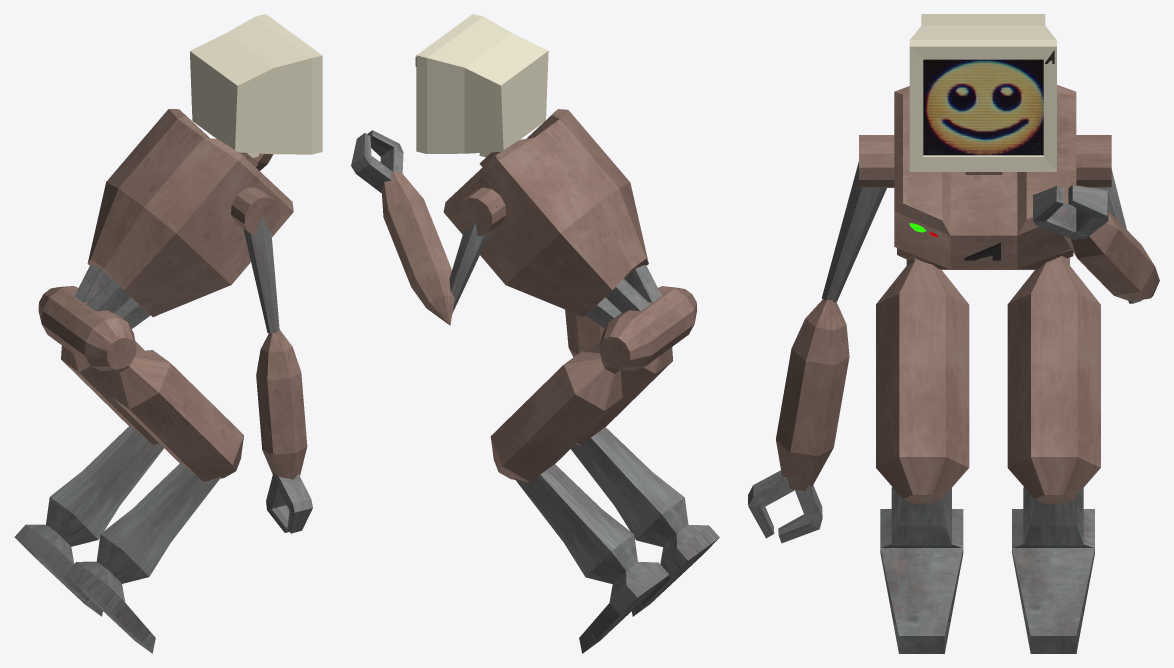
The model's file is sentinel.fbx.
3 renders of one model, left to right at view 1: azimuth 30°, elevation 25°; view 2: azimuth 150°, elevation 25°; view 3: azimuth 270°, elevation 25°, orthographic. The views are drawn at different scales.
Parts seen in each view (by area): view 1: Cube.004, Cube.003, Cube.008, Cylinder.008, Cube.007, Cylinder.006, Cylinder.007, Cube.006, Cylinder.004; view 2: Cube.004, Cube.003, Cube.007, Cylinder.004, Cube.008, Cylinder.005, Cube.005, Cylinder.008, Cylinder.003, Cylinder.006; view 3: Cube.003, Cube.004, Cylinder.004, Cylinder.008, Cube.008, Cube.007, Cylinder.006, Cylinder.005, Cube.005, Cylinder.007, Cube.006.
Boxes of the visible parts, <box> form: Cube.004: <box>38,109,293,371</box>; Cube.003: <box>190,14,322,157</box>; Cube.008: <box>65,463,221,653</box>; Cylinder.008: <box>111,350,243,481</box>; Cube.007: <box>14,426,163,616</box>; Cylinder.006: <box>256,330,307,479</box>; Cylinder.007: <box>243,216,279,333</box>; Cube.006: <box>266,473,312,533</box>; Cylinder.004: <box>61,341,158,444</box>; Cube.004: <box>443,109,697,370</box>; Cube.003: <box>416,14,548,157</box>; Cube.007: <box>514,464,668,653</box>; Cylinder.004: <box>490,351,622,482</box>; Cube.008: <box>571,427,719,616</box>; Cylinder.005: <box>381,172,454,325</box>; Cube.005: <box>351,130,403,192</box>; Cylinder.008: <box>575,341,672,445</box>; Cylinder.003: <box>449,206,497,313</box>; Cylinder.006: <box>565,309,604,357</box>; Cube.003: <box>909,14,1056,171</box>; Cube.004: <box>859,85,1111,269</box>; Cylinder.004: <box>1007,256,1100,503</box>; Cylinder.008: <box>876,258,969,503</box>; Cube.008: <box>880,487,963,653</box>; Cube.007: <box>1012,487,1094,653</box>; Cylinder.006: <box>776,299,849,490</box>; Cylinder.005: <box>1063,211,1159,301</box>; Cube.005: <box>1033,185,1108,239</box>; Cylinder.007: <box>822,161,886,302</box>; Cube.006: <box>748,470,822,543</box>.
Bounding box in the file's own units: 932 × 1696 × 883.
Materials: 8 (3 with a texture image).
